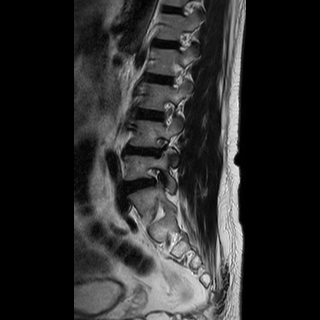LFS0: (156, 94, 180, 132)
LFS3: (151, 134, 174, 164)
